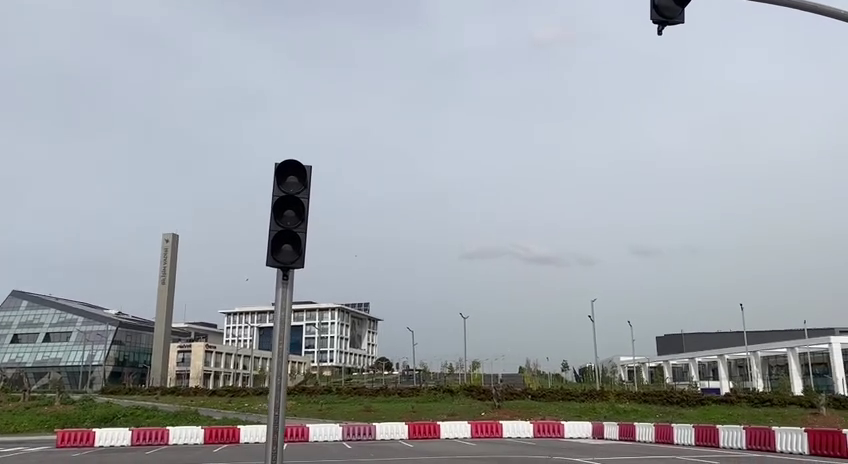trafficLight: (261, 156, 315, 276)
